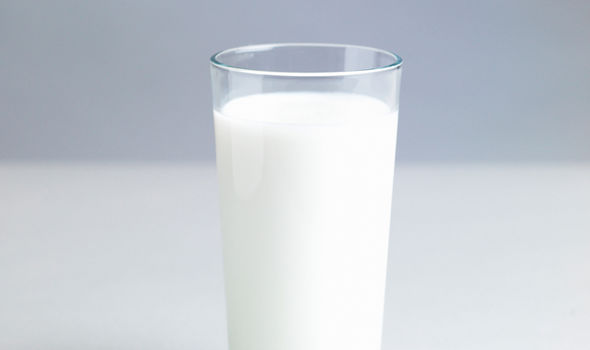glass of milk: (216, 47, 391, 347)
